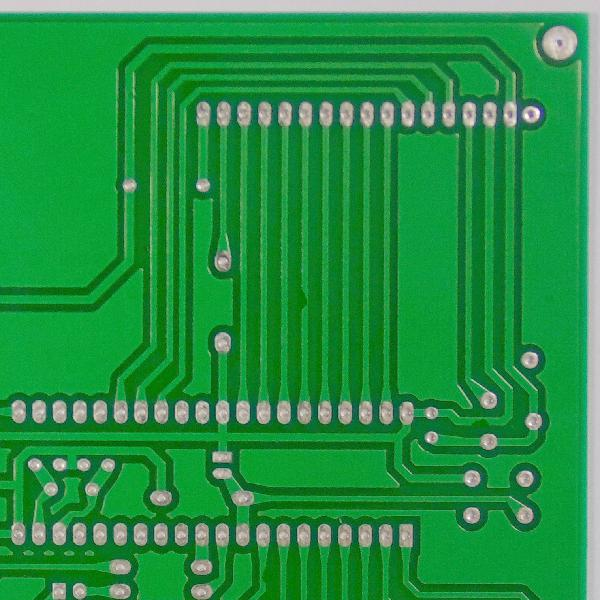mouse_bite: (294, 282, 314, 317), (466, 414, 498, 431), (257, 563, 273, 589)
